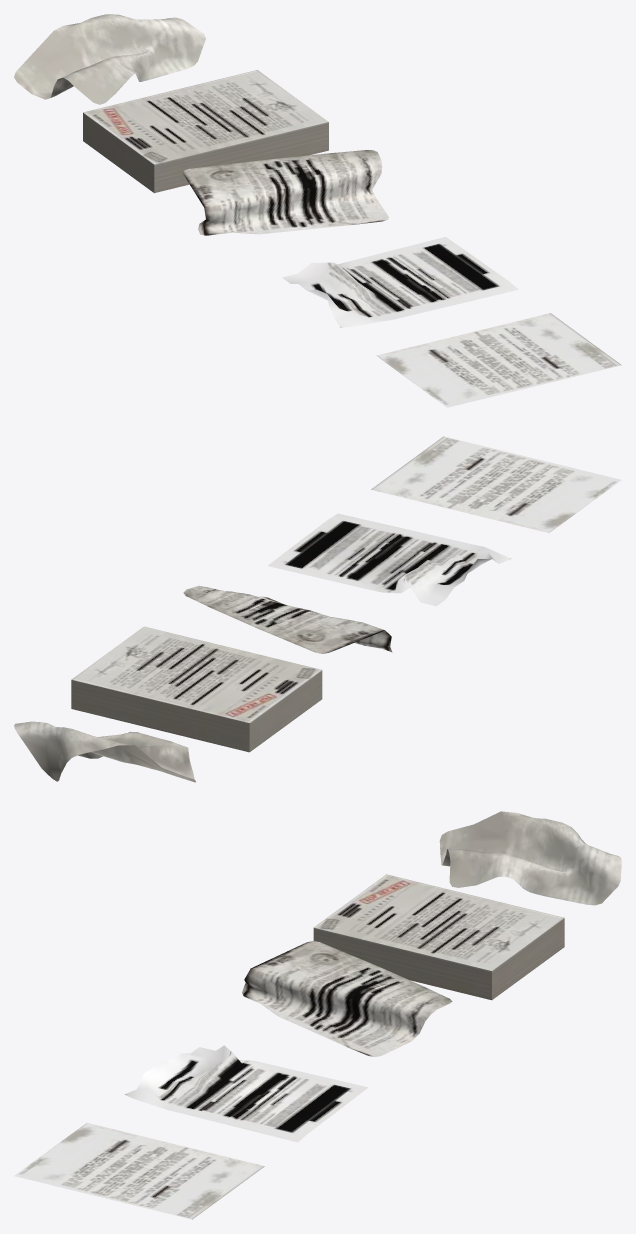
The model's file is paper-debris.lod0.glb.
3 views of the same model, one above another, from view 1: azimuth 30°, elevation 25°; view 2: azimuth 150°, elevation 25°; view 3: azimuth 330°, elevation 25° (orthographic). The views are drawn at different scales.
Visible parts, largest first — view 1: defaultMaterial; view 2: defaultMaterial; view 3: defaultMaterial.
Part boxes in pixels (left/top/right/bottom): defaultMaterial: left=14, top=14, right=621, bottom=407; defaultMaterial: left=14, top=436, right=621, bottom=782; defaultMaterial: left=14, top=811, right=621, bottom=1219.
Bounding box in the file's own units: 0.1105 × 0.0271 × 0.45.
1 material, 1 textured.
